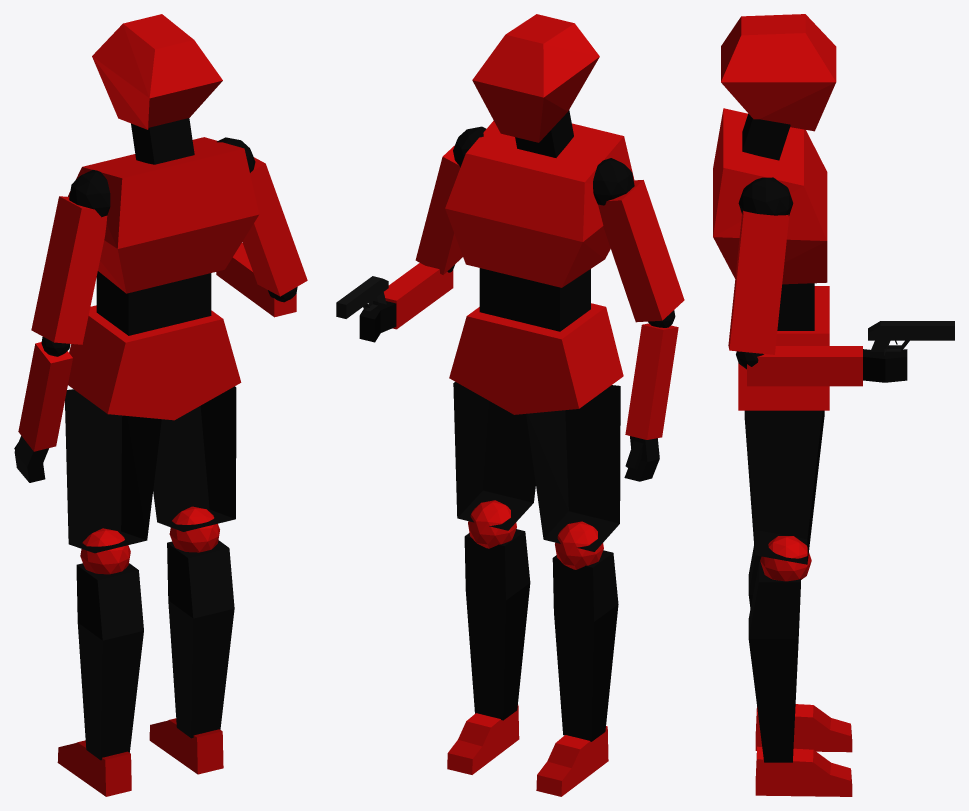
The picture shows the model from 3 angles, left to right: view 1: azimuth 30°, elevation 25°; view 2: azimuth 150°, elevation 25°; view 3: azimuth 270°, elevation 25°; orthographic projection. The views are drawn at different scales.
Visible parts, largest first — view 1: torso/waist, l_thigh, l_calf, r_calf, head, r_thigh, r_Uarm.001, Cube, r_Uarm, l_Larm, l_foot, r_foot (+6 smaller); view 2: torso/waist, l_thigh, head, l_calf, r_calf, r_thigh, r_Uarm.001, Cube, l_Larm, r_Uarm, l_foot, r_foot (+9 smaller); view 3: torso/waist, head, r_thigh, r_calf, r_Uarm, r_Larm, r_foot, l_foot, upper, Cube, r_shoulder, r_knee (+2 smaller).
Boxes of the visible parts, x1,y1,x2,y2 form: torso/waist: [67, 137, 259, 420]; l_thigh: [65, 389, 161, 553]; l_calf: [76, 563, 143, 760]; r_calf: [167, 540, 234, 738]; head: [92, 14, 222, 129]; r_thigh: [153, 386, 236, 531]; r_Uarm.001: [31, 196, 107, 344]; Cube: [96, 271, 211, 335]; r_Uarm: [242, 157, 307, 296]; l_Larm: [18, 342, 72, 451]; l_foot: [57, 740, 131, 796]; r_foot: [149, 718, 223, 774]; torso/waist: [445, 120, 634, 414]; l_thigh: [526, 385, 620, 551]; head: [472, 14, 599, 142]; l_calf: [552, 550, 618, 741]; r_calf: [464, 529, 530, 720]; r_thigh: [453, 382, 535, 530]; r_Uarm.001: [598, 180, 684, 322]; Cube: [479, 268, 590, 331]; l_Larm: [625, 323, 678, 439]; r_Uarm: [415, 145, 462, 274]; l_foot: [536, 726, 608, 796]; r_foot: [447, 705, 519, 774]; torso/waist: [713, 108, 829, 410]; head: [721, 14, 836, 131]; r_thigh: [744, 410, 824, 564]; r_calf: [748, 562, 800, 762]; r_Uarm: [728, 210, 788, 354]; r_Larm: [747, 346, 862, 386]; r_foot: [755, 746, 852, 796]; l_foot: [755, 704, 852, 752]; upper: [868, 321, 954, 340]; Cube: [777, 283, 814, 330]; r_shoulder: [738, 177, 793, 215]; r_knee: [760, 536, 811, 581].
Size of the model in its own units: 3.59 by 10.07 by 2.96.
